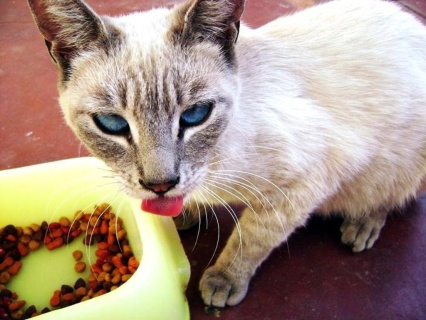Cat: (24, 0, 425, 306)
